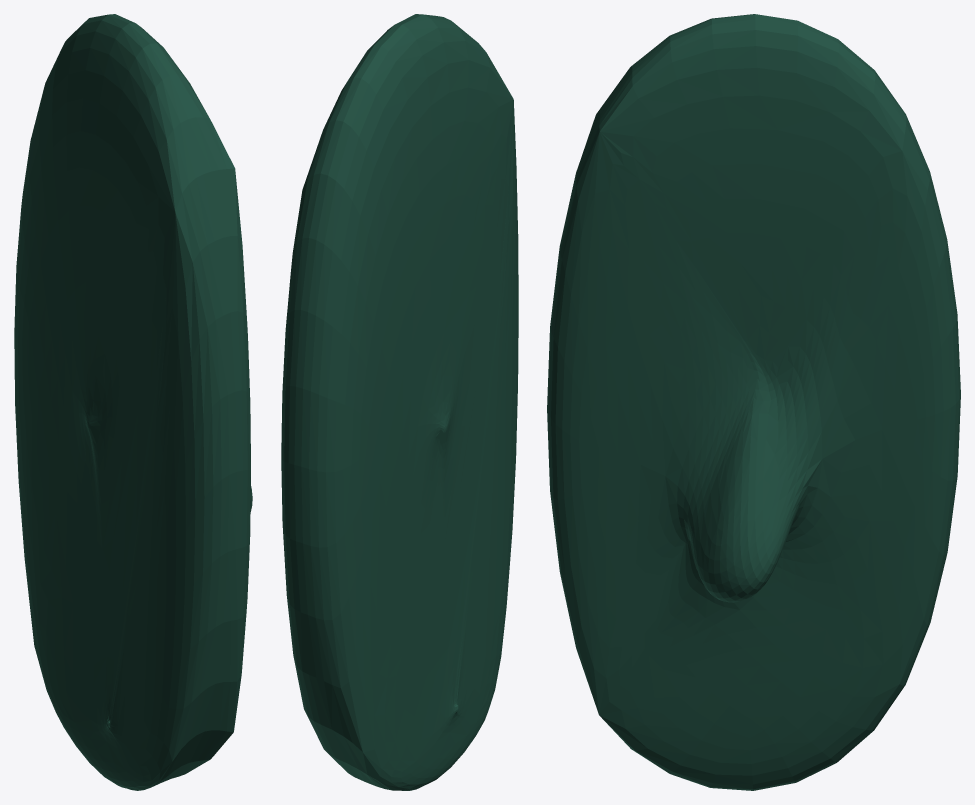
3 renders of one model, left to right at view 1: azimuth 30°, elevation 25°; view 2: azimuth 150°, elevation 25°; view 3: azimuth 270°, elevation 25°, orthographic. The views are drawn at different scales.
Visible parts, largest first — view 1: 798_Cube.3217; view 2: 798_Cube.3217; view 3: 798_Cube.3217.
Boxes of the visible parts, x1=… form: 798_Cube.3217: x1=14, y1=14, x2=252, y2=790; 798_Cube.3217: x1=281, y1=14, x2=518, y2=790; 798_Cube.3217: x1=547, y1=14, x2=960, y2=790.
Bounding box in the file's own units: 2.39 × 10.85 × 5.25.
